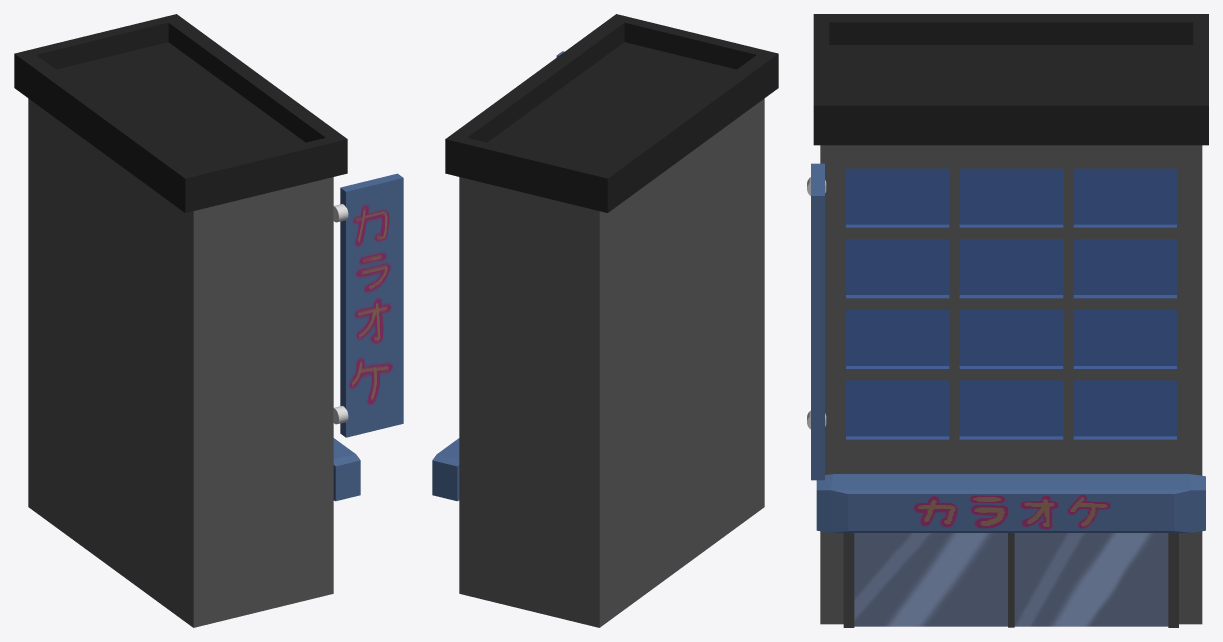
The model's file is karaokebuildingtexturefinal.glb.
3 views of the same model, side by side, from view 1: azimuth 30°, elevation 25°; view 2: azimuth 150°, elevation 25°; view 3: azimuth 270°, elevation 25° (orthographic). The views are drawn at different scales.
Visible parts, largest first — view 1: building, roof part, sign, awning; view 2: building, roof part, awning; view 3: building, roof part, shop window, awning, sign, door borders, door border middle.
Boxes of the visible parts, x1,y1,x2,y2 form: building: [28, 98, 333, 627]; roof part: [14, 14, 347, 212]; sign: [340, 173, 403, 437]; awning: [333, 438, 360, 501]; building: [459, 98, 764, 627]; roof part: [445, 14, 778, 212]; awning: [432, 438, 459, 501]; building: [820, 145, 1202, 624]; roof part: [813, 14, 1208, 145]; shop window: [854, 533, 1168, 626]; awning: [816, 474, 1205, 532]; sign: [811, 163, 824, 480]; door borders: [843, 533, 1178, 627]; door border middle: [1008, 533, 1014, 627].
Bounding box in the file's own units: 4.58 × 9.15 × 6.35.
Materials: 8 (3 with a texture image).
